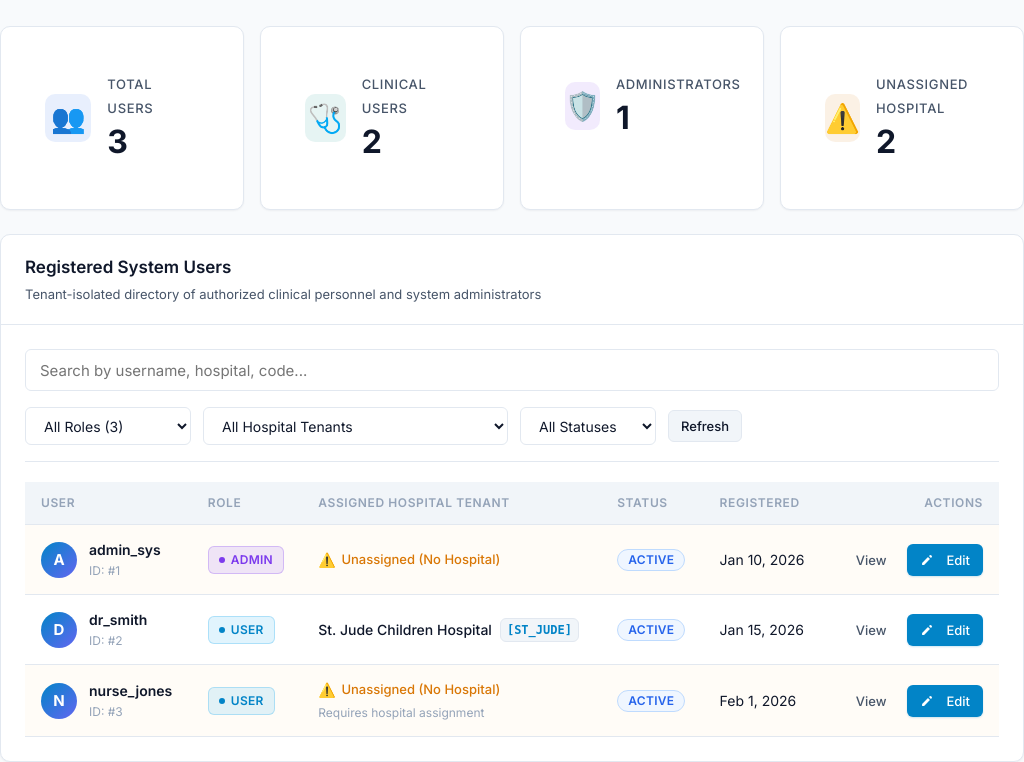
Test: UserManagementPage › allows assigning an active hospital to an existing clinical user with null hospital
The width and height of the screenshot is (1024, 762).
(page scrolled)
Expected: the text "nurse_jones" is shown, [89,680,172,702]
Click the button "Edit" in the row of "nurse_jones" at {"x": 945, "y": 701}, box [907,685,983,717]
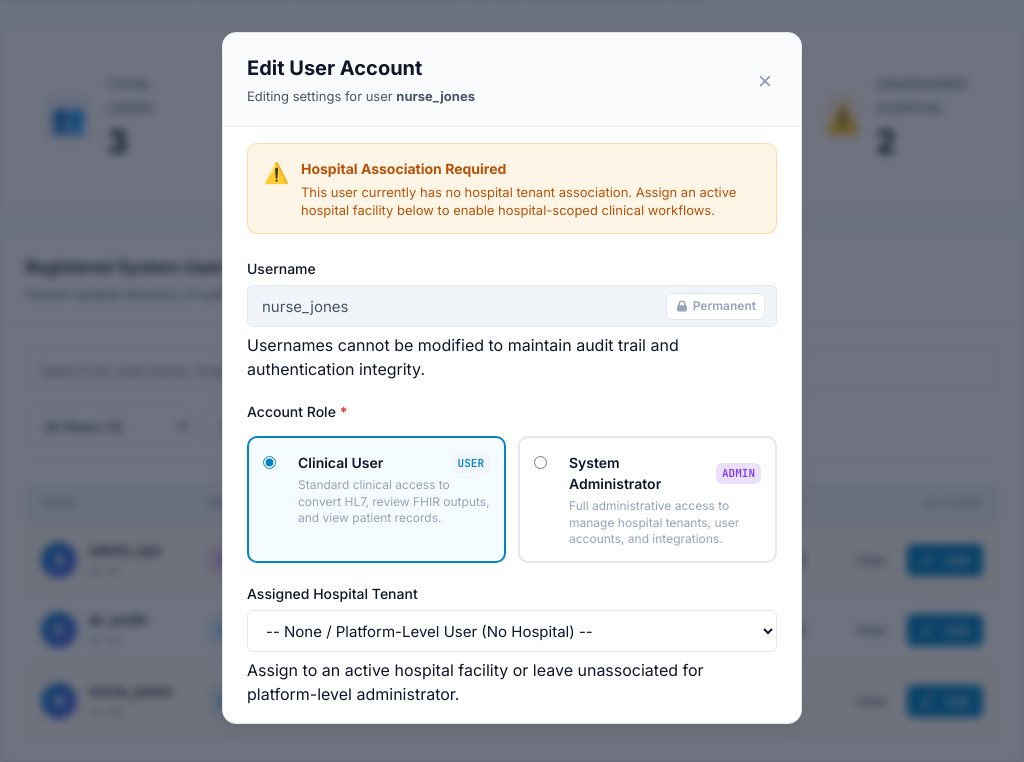
Result: the text "Hospital Association Required" is shown at [301,160,506,177]
# Select active hospital 'Mercy General Hospital' (value 2)
Select "Mercy General Hospital [MERCY_GEN]" in the dropdown labelled "Assigned Hospital Tenant" at {"x": 512, "y": 631}, box [247,610,777,652]
(page scrolled)
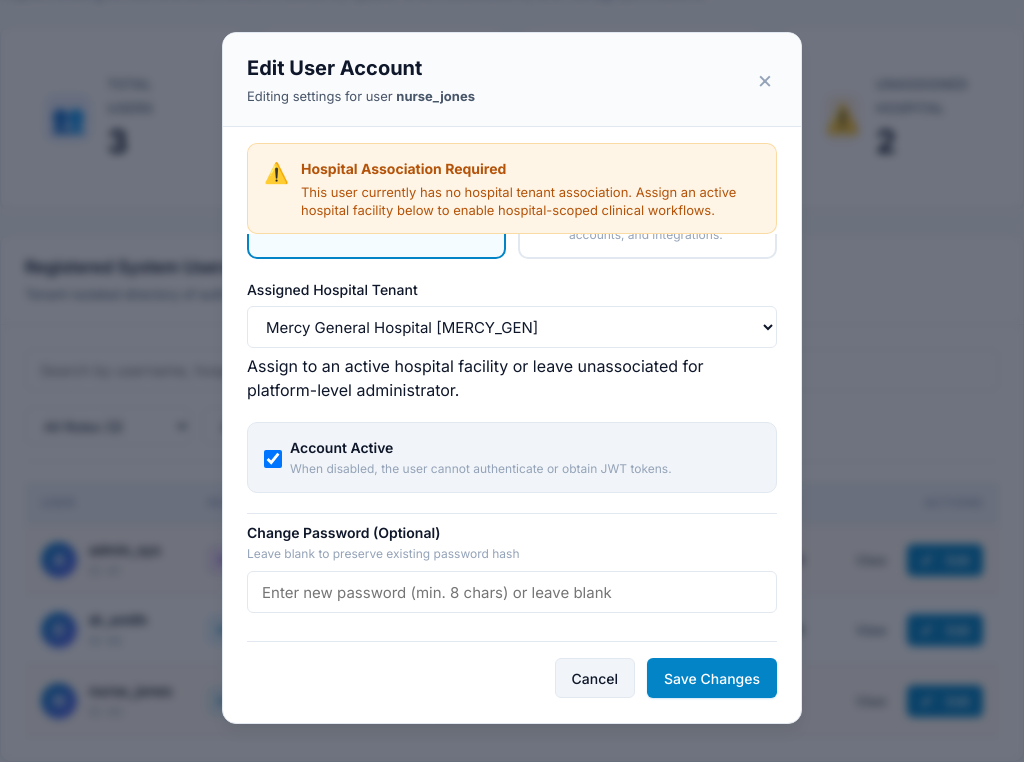
# Click Save Changes
Click the button "Save Changes" at {"x": 712, "y": 678}, box [647,658,777,698]
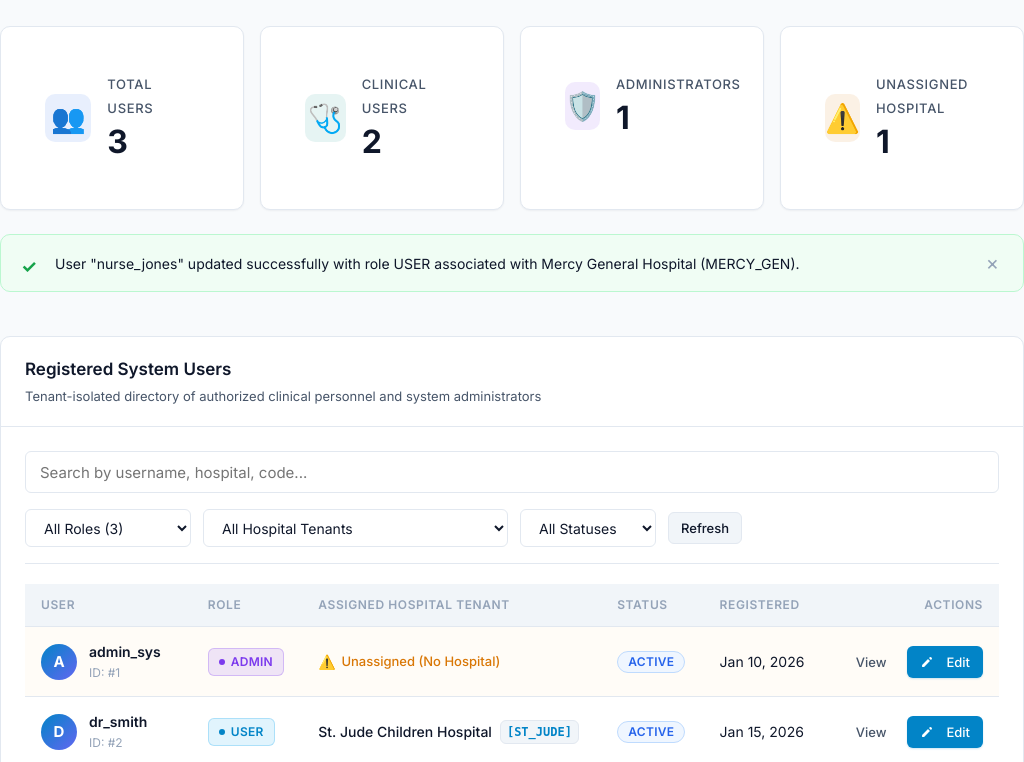
Result: the text "User \"nurse_jones\" updated successfully" is shown at [55,255,800,272]
